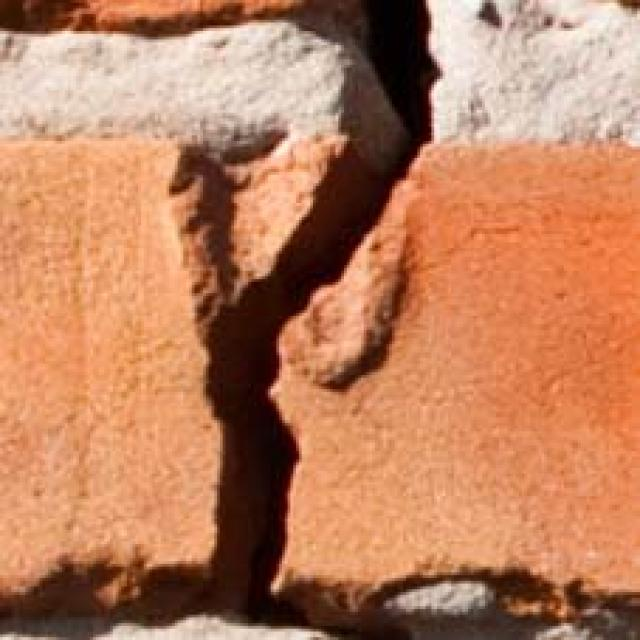Crack: (0, 0, 502, 635)
